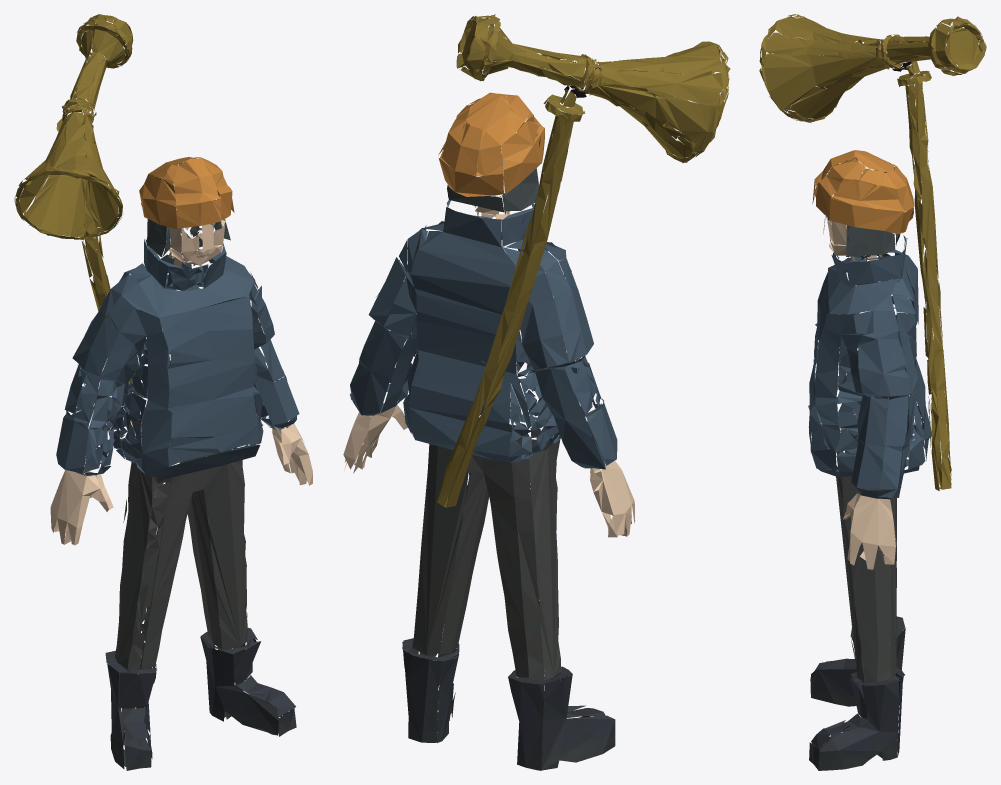
Rendered from habitant.glb.
3 renders of one model, left to right at view 1: azimuth 30°, elevation 25°; view 2: azimuth 150°, elevation 25°; view 3: azimuth 270°, elevation 25°, orthographic. The views are drawn at different scales.
Parts seen in each view (by area): view 1: world; view 2: world; view 3: world.
Boxes of the visible parts, bbox=[...] form: world: bbox=[14, 14, 312, 770]; world: bbox=[343, 14, 730, 770]; world: bbox=[759, 14, 986, 770].
Bounding box in the file's own units: 0.4704 × 1 × 0.2988.
1 material, 1 textured.
